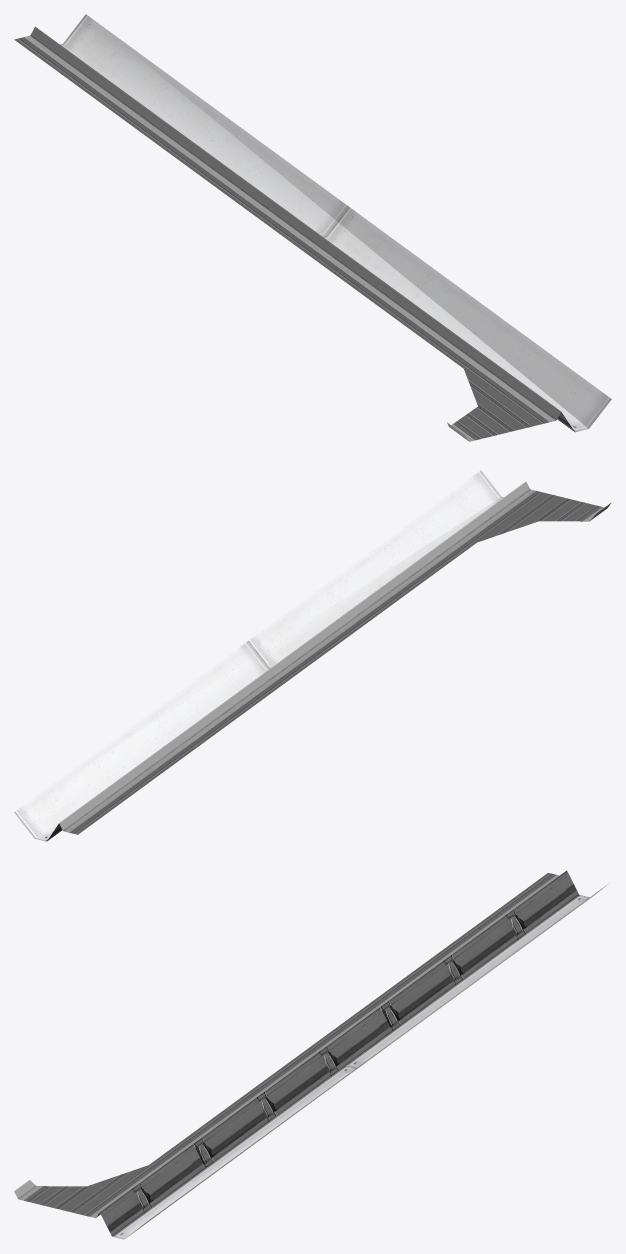
File: CeilingBrace_hospcap1x6.FBX
3 views of the same model, one above another, from view 1: azimuth 30°, elevation 25°; view 2: azimuth 150°, elevation 25°; view 3: azimuth 330°, elevation 25° (orthographic). The views are drawn at different scales.
Parts seen in each view (by area): view 1: CeilingBrace_hospcap1x6; view 2: CeilingBrace_hospcap1x6; view 3: CeilingBrace_hospcap1x6.
Part boxes in pixels (x1,y1,x2,y2): CeilingBrace_hospcap1x6: (14, 14, 611, 441); CeilingBrace_hospcap1x6: (14, 470, 611, 841); CeilingBrace_hospcap1x6: (14, 870, 609, 1239).
Size of the model in its own units: 0.9702 by 0.152 by 6.
